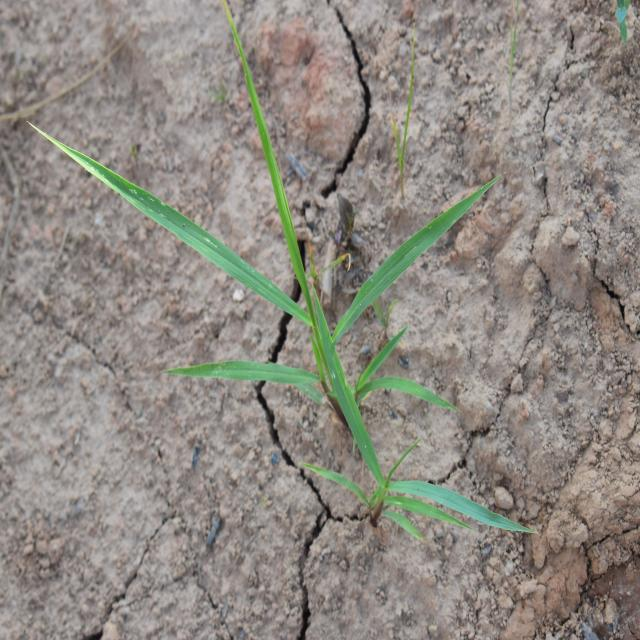green_foxtail: (89, 96, 442, 462), (314, 369, 504, 569)
